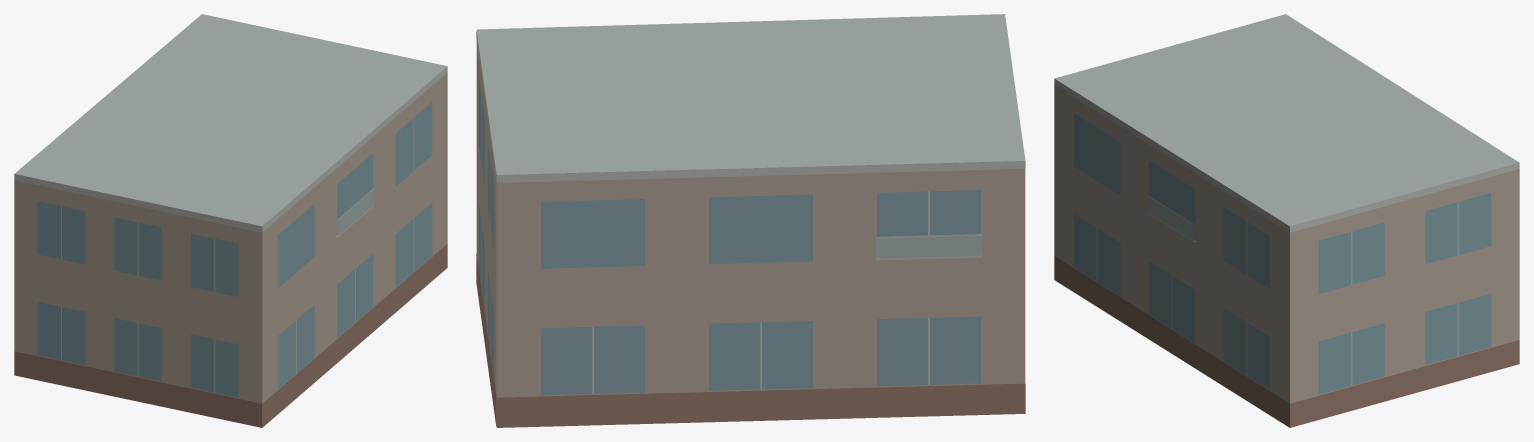
The model's file is survey-upis-32624880.glb.
3 views of the same model, side by side, from view 1: azimuth 30°, elevation 25°; view 2: azimuth 150°, elevation 25°; view 3: azimuth 270°, elevation 25° (orthographic). The views are drawn at different scales.
Visible parts, largest first — view 1: survey-upis-32624880.tmp; view 2: survey-upis-32624880.tmp; view 3: survey-upis-32624880.tmp.
Part boxes in pixels (x1=…): survey-upis-32624880.tmp: x1=14, y1=14, x2=447, y2=427; survey-upis-32624880.tmp: x1=476, y1=14, x2=1025, y2=427; survey-upis-32624880.tmp: x1=1054, y1=14, x2=1519, y2=427.
Bounding box in the file's own units: 17.65 × 7.8 × 16.34.
